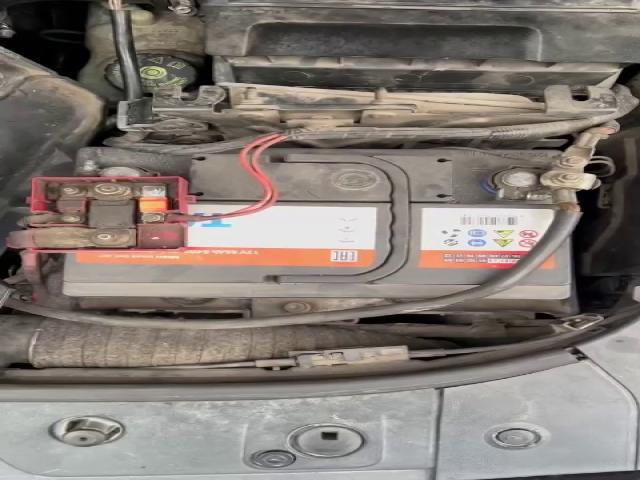accumulator: (0, 147, 606, 299)
